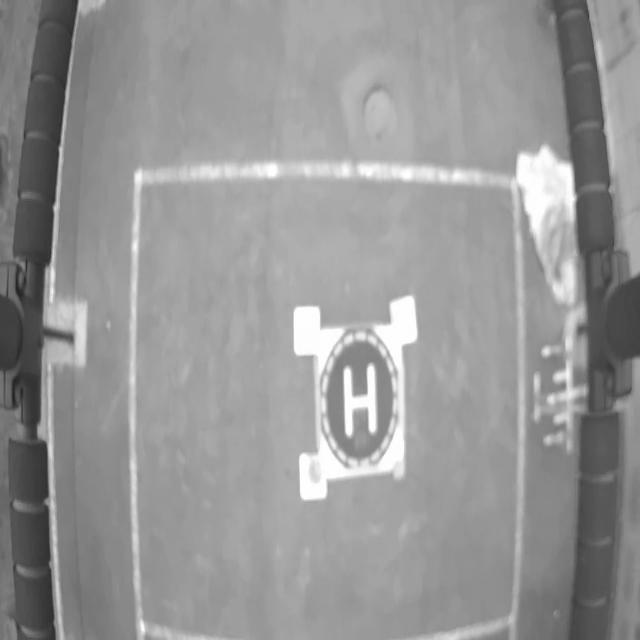Helipad: (343, 362, 378, 438)
